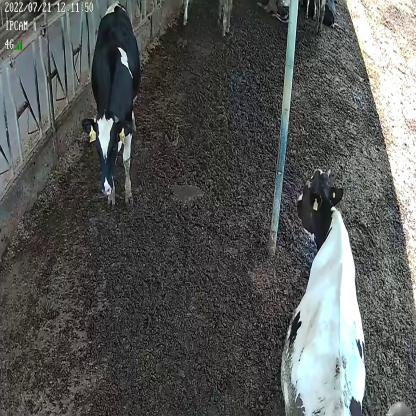cow: (280, 163, 367, 416), (81, 0, 140, 208)
